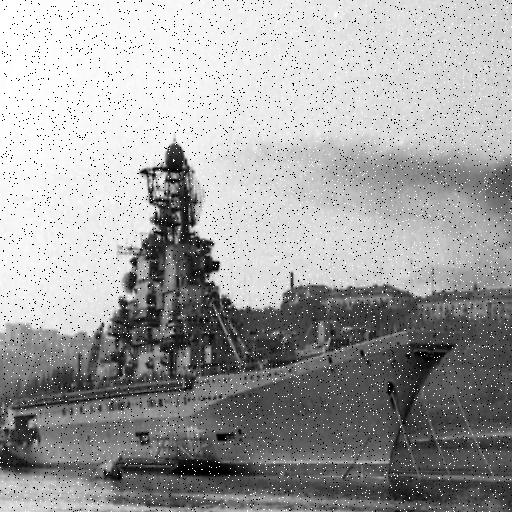Portanaves: (1, 124, 461, 492)
